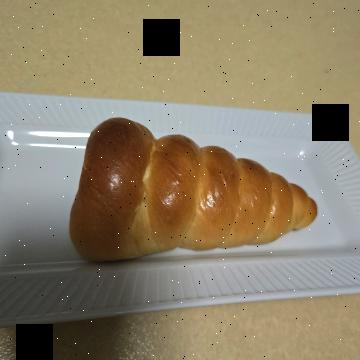cream horn: (104, 45, 285, 319)
